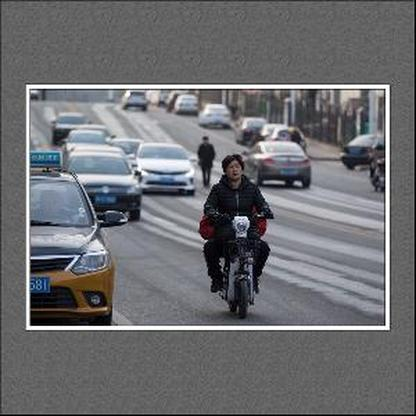target: (196, 154, 276, 319)
